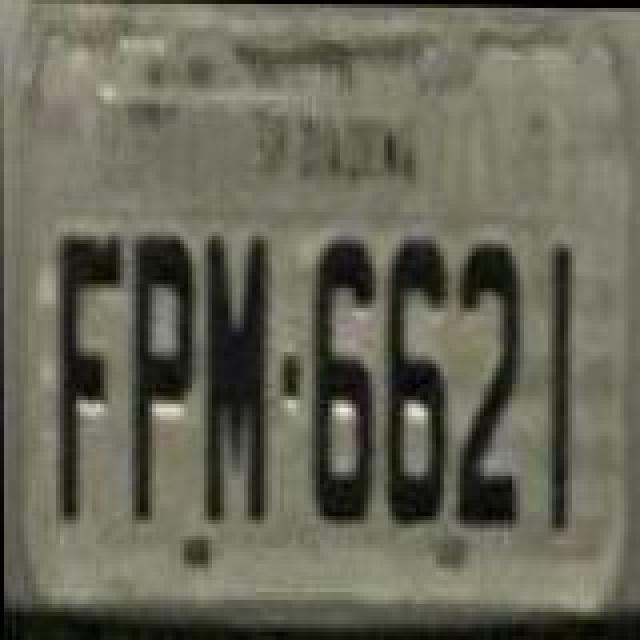1: (548, 240, 576, 532)
2: (458, 240, 522, 532)
6: (314, 234, 378, 526), (386, 234, 450, 526)
F: (56, 228, 124, 536)
M: (200, 228, 268, 528)
P: (128, 232, 196, 532)
